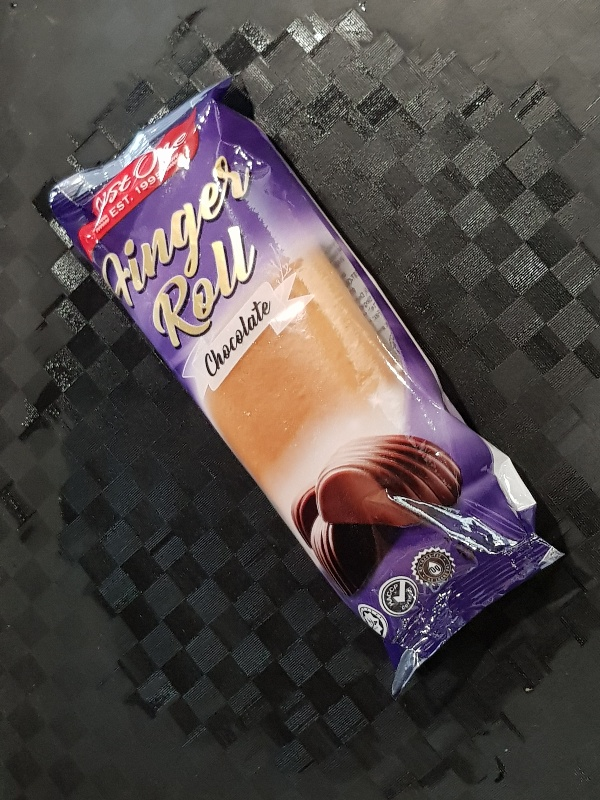Tinges Roll Chocolate: (33, 72, 565, 696)
